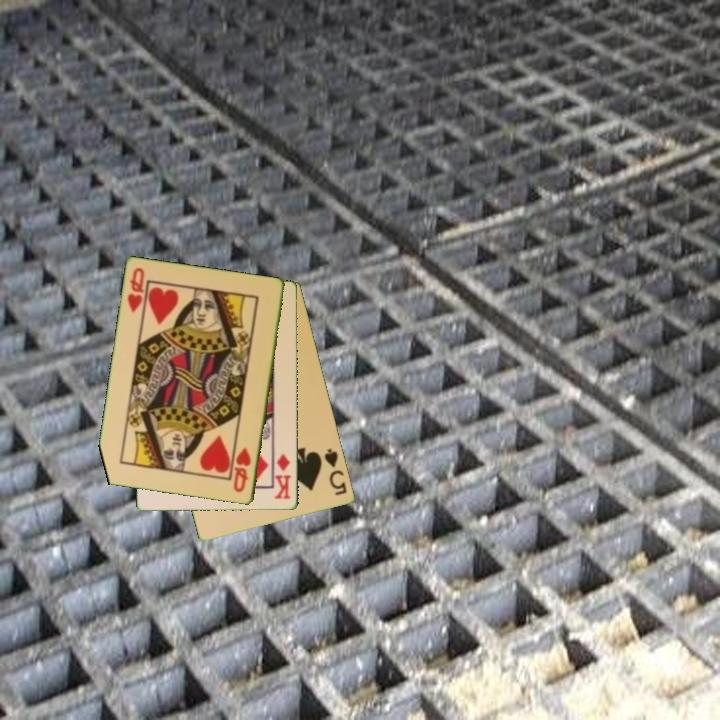5s: (321, 445, 350, 498)
Kd: (272, 451, 294, 502)
Qh: (230, 444, 254, 496), (124, 264, 147, 315)
